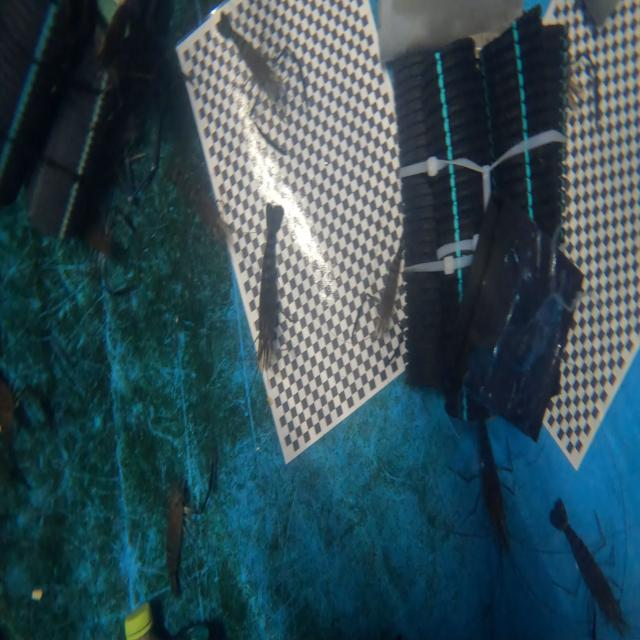prawn: (550, 501, 625, 631), (218, 9, 291, 111), (478, 420, 509, 556), (258, 203, 282, 369), (376, 244, 404, 337), (166, 485, 185, 595)
